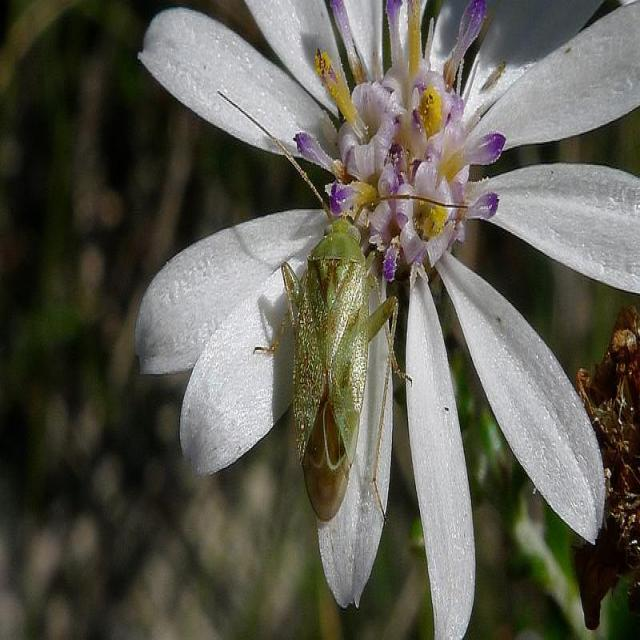Miridae-Adult-: (204, 77, 474, 529)
